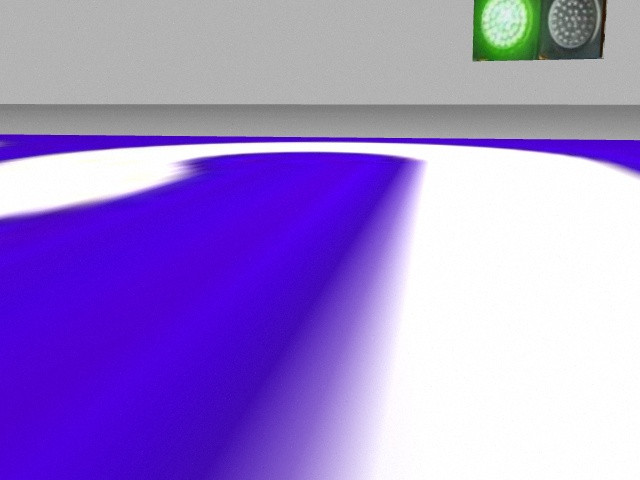green: (472, 2, 541, 60)
